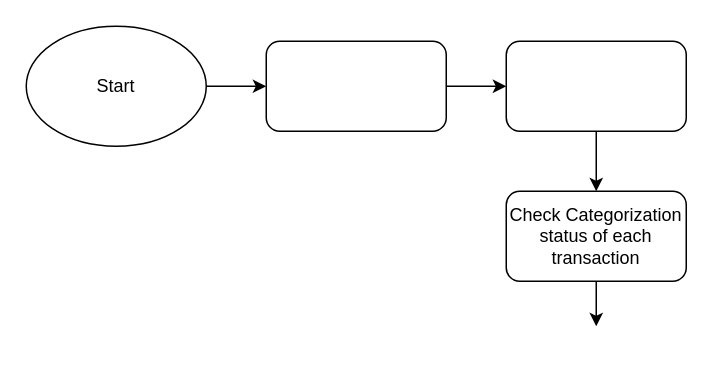
This 713x365 diagram has some shape labels left out. Here are the shapes that lost their labels. From the top down, the box of each, then its label:
(265, 40, 446, 131): Fetch Transactions
(505, 40, 686, 131): Load User Defined Rules
